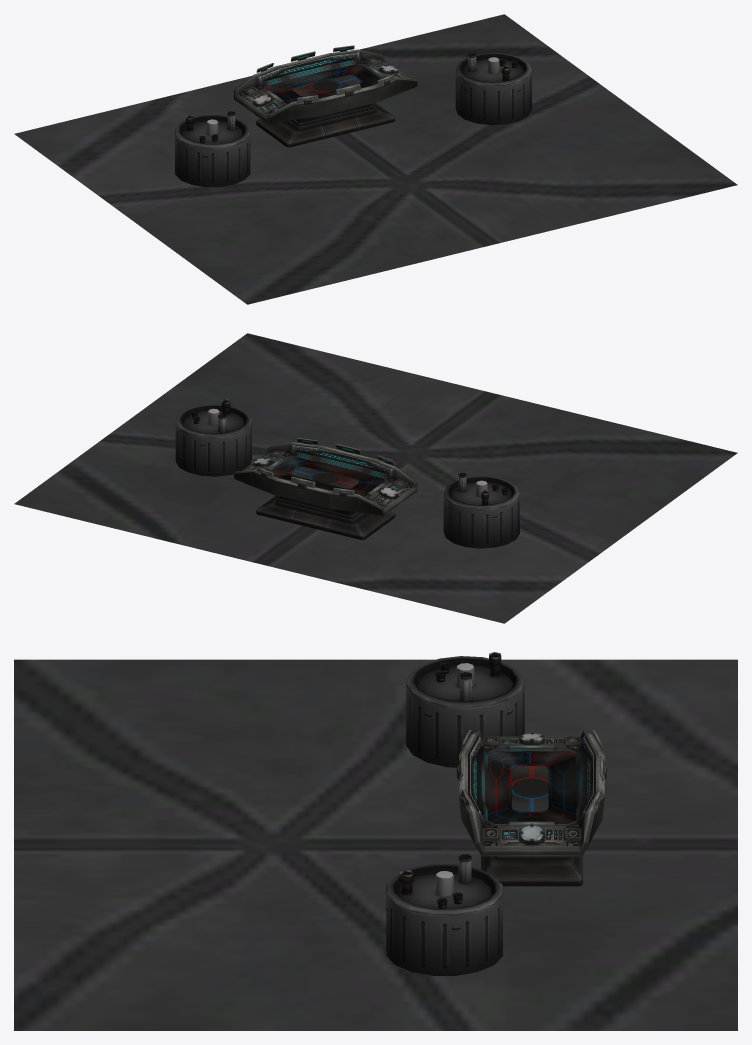
File: env_tournament_table_pre.glb
3 views of the same model, one above another, from view 1: azimuth 30°, elevation 25°; view 2: azimuth 150°, elevation 25°; view 3: azimuth 270°, elevation 25° (orthographic). The views are drawn at different scales.
Parts seen in each view (by area): view 1: cantina_floor_mesh, Territory_Tournament_Holo_Table_mesh, tat_cantina_table_mesh (5), tat_cantina_table_mesh (6), vfx_holotable_glow_mesh_01, tournament_table_top - Home; view 2: cantina_floor_mesh, Territory_Tournament_Holo_Table_mesh, tat_cantina_table_mesh (6), tat_cantina_table_mesh (5), vfx_holotable_glow_mesh_01, tournament_table_top - Home; view 3: cantina_floor_mesh, Territory_Tournament_Holo_Table_mesh, tat_cantina_table_mesh (5), tat_cantina_table_mesh (6), vfx_holotable_glow_mesh_01, tournament_table_top - Home.
Part boxes in pixels (left/top/right/bottom): cantina_floor_mesh: left=14, top=14, right=737, bottom=304; Territory_Tournament_Holo_Table_mesh: left=234, top=45, right=417, bottom=147; tat_cantina_table_mesh (5): left=455, top=52, right=531, bottom=125; tat_cantina_table_mesh (6): left=175, top=111, right=250, bottom=187; vfx_holotable_glow_mesh_01: left=266, top=64, right=380, bottom=104; tournament_table_top - Home: left=266, top=75, right=361, bottom=96; cantina_floor_mesh: left=14, top=333, right=737, bottom=623; Territory_Tournament_Holo_Table_mesh: left=234, top=438, right=417, bottom=539; tat_cantina_table_mesh (6): left=443, top=472, right=519, bottom=548; tat_cantina_table_mesh (5): left=175, top=399, right=251, bottom=476; vfx_holotable_glow_mesh_01: left=270, top=457, right=384, bottom=496; tournament_table_top - Home: left=291, top=467, right=359, bottom=488; cantina_floor_mesh: left=14, top=659, right=737, bottom=1030; Territory_Tournament_Holo_Table_mesh: left=456, top=730, right=606, bottom=886; tat_cantina_table_mesh (5): left=386, top=854, right=502, bottom=975; tat_cantina_table_mesh (6): left=406, top=652, right=524, bottom=767; vfx_holotable_glow_mesh_01: left=485, top=751, right=578, bottom=823; tournament_table_top - Home: left=511, top=751, right=568, bottom=811.
Bounding box in the file's own units: 63.12 × 6.62 × 52.02.
Materials: 5 (5 with a texture image).
